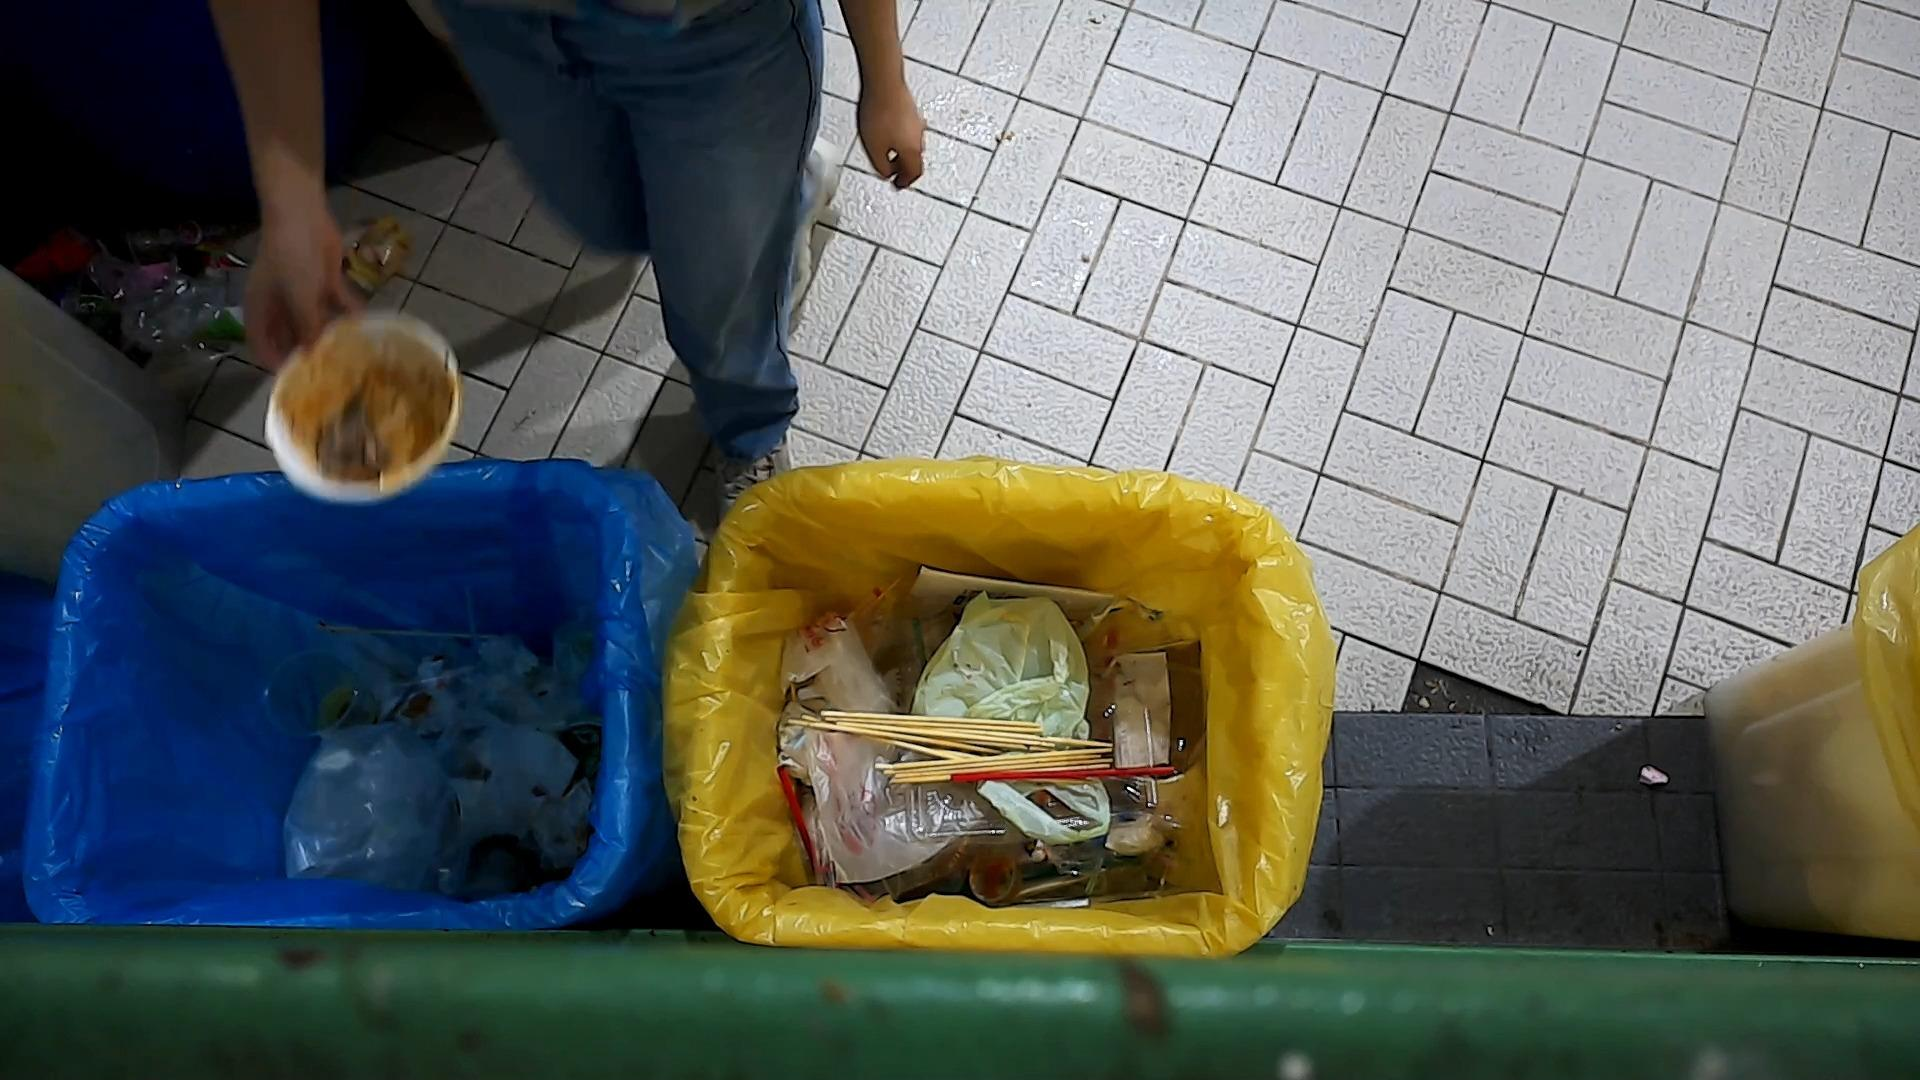dirty food container: (260, 309, 464, 506), (968, 851, 1021, 903)
filled plastic bag: (777, 611, 992, 886), (282, 719, 469, 891), (909, 591, 1089, 746)
milk carton: (1104, 650, 1171, 770)
plastic cup: (262, 650, 378, 740)
sticks: (786, 716, 1002, 754), (818, 708, 1043, 736), (884, 749, 1112, 775), (326, 621, 522, 644)
straw: (777, 764, 827, 878), (949, 765, 1174, 785)
